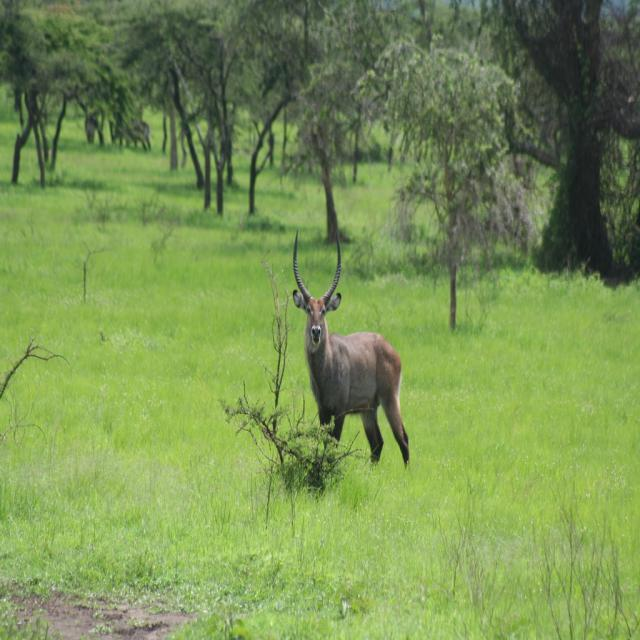Deer: (290, 226, 411, 461)
